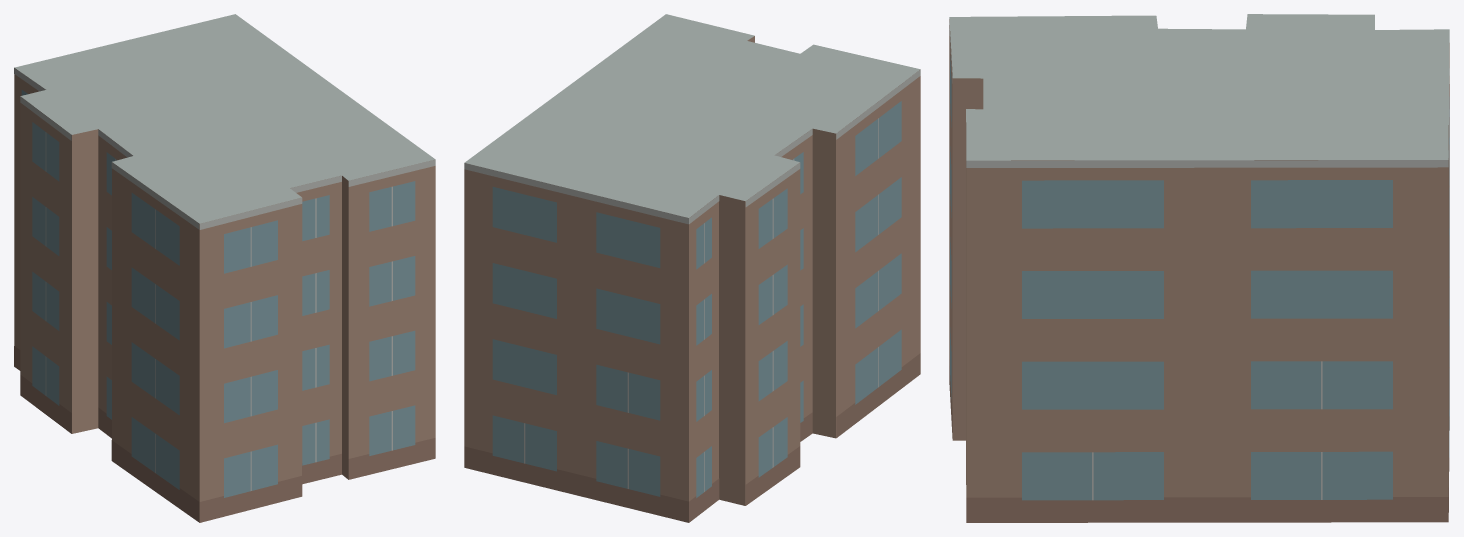
The model's file is survey-upis-32805353.glb.
3 renders of one model, left to right at view 1: azimuth 30°, elevation 25°; view 2: azimuth 150°, elevation 25°; view 3: azimuth 270°, elevation 25°, orthographic. The views are drawn at different scales.
Parts seen in each view (by area): view 1: survey-upis-32805353.tmp; view 2: survey-upis-32805353.tmp; view 3: survey-upis-32805353.tmp.
Part boxes in pixels (x1=…): survey-upis-32805353.tmp: x1=14, y1=14, x2=435, y2=522; survey-upis-32805353.tmp: x1=464, y1=14, x2=920, y2=522; survey-upis-32805353.tmp: x1=949, y1=14, x2=1449, y2=522.
Size of the model in its own units: 10.07 by 11.6 by 14.53.
